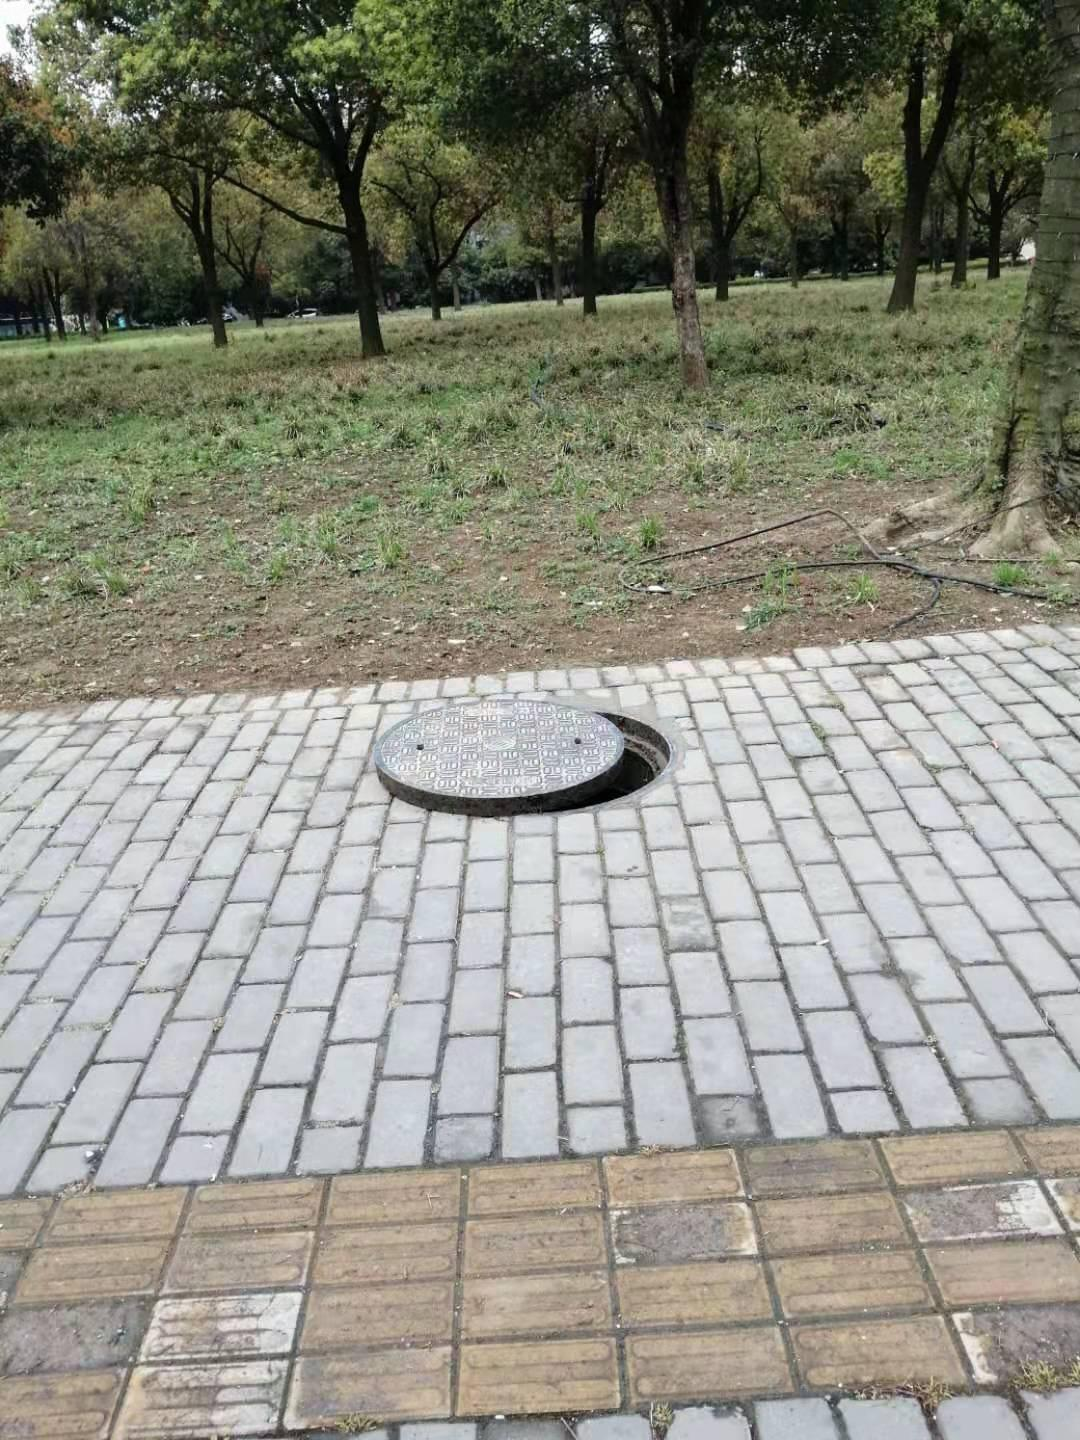wellcover: (355, 693, 678, 822)
